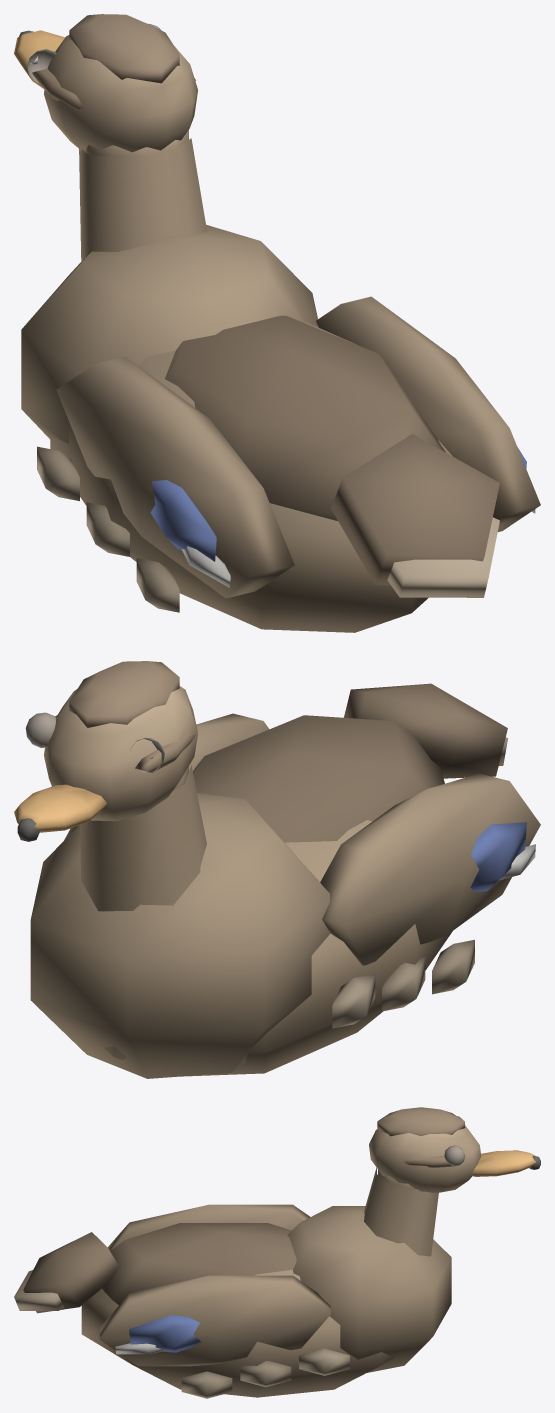
The model's file is hen.glb.
3 renders of one model, top to bottom at view 1: azimuth 30°, elevation 25°; view 2: azimuth 150°, elevation 25°; view 3: azimuth 270°, elevation 25°, orthographic. The views are drawn at different scales.
Visible parts, largest first — view 1: body, head; view 2: body, head; view 3: body, head.
Part boxes in pixels (x1,y1,x2,y2): body: [21, 224, 540, 632]; head: [14, 14, 206, 261]; body: [30, 683, 540, 1078]; head: [14, 661, 206, 911]; body: [14, 1204, 451, 1398]; head: [364, 1107, 540, 1256].
Size of the model in its own units: 0.2728 by 0.358 by 0.6276.
